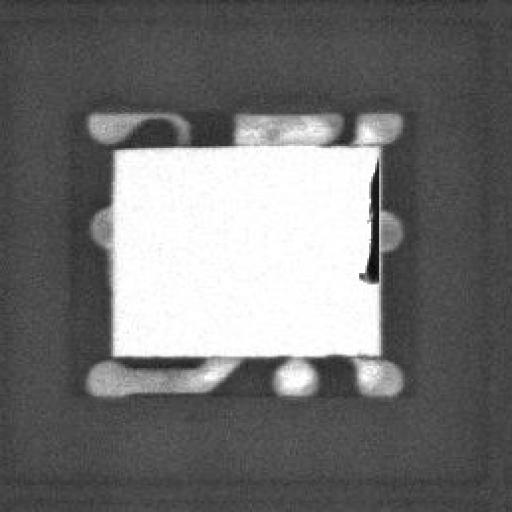DIE_BROKEN: (353, 156, 377, 288)
